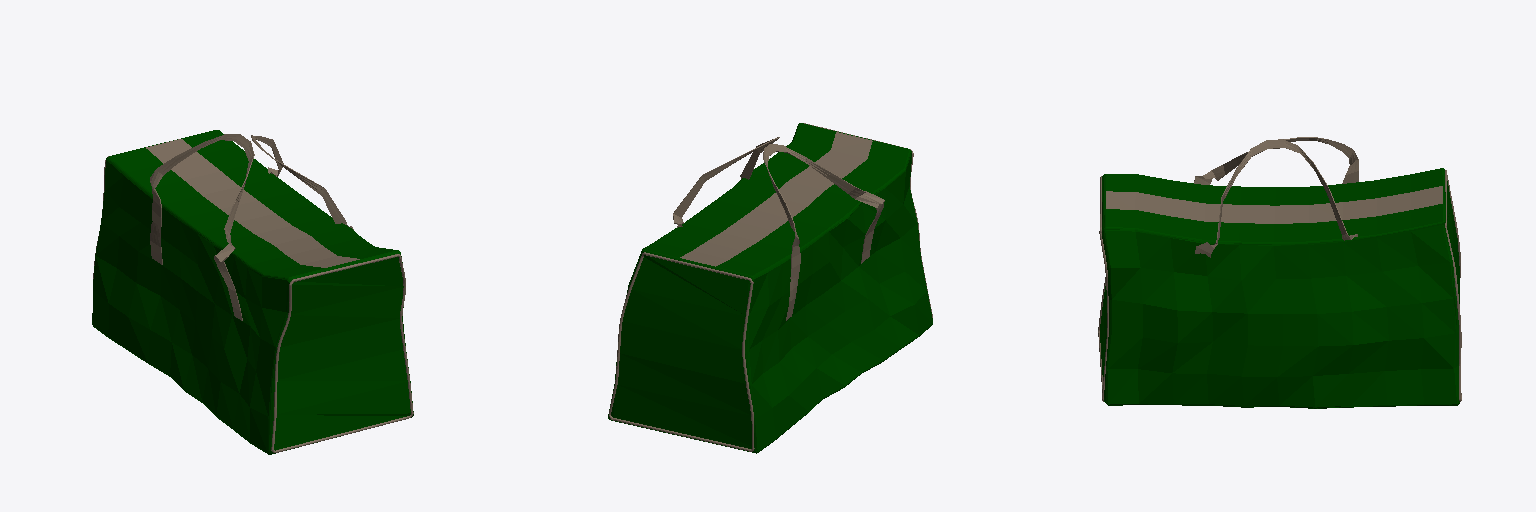
Rendered from sport_bag_green.obj.
The picture shows the model from 3 angles: view 1: azimuth 30°, elevation 25°; view 2: azimuth 150°, elevation 25°; view 3: azimuth 270°, elevation 25°; orthographic projection.
Parts seen in each view (by area): view 1: Line02.001; view 2: Line02.001; view 3: Line02.001.
Boxes of the visible parts, x1,y1,x2,y2 form: Line02.001: [92, 130, 413, 454]; Line02.001: [608, 123, 932, 453]; Line02.001: [1098, 137, 1461, 408].
Bounding box in the file's own units: 0.0314 × 0.0445 × 0.0632.